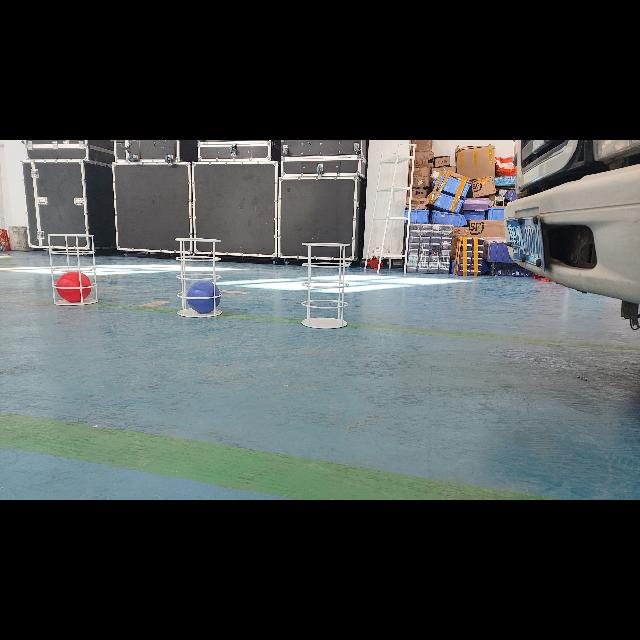B: (185, 282, 222, 314)
R: (56, 272, 92, 302)
S: (298, 242, 356, 332), (173, 235, 227, 318), (46, 232, 102, 306)
